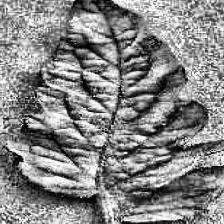leaf mold: (3, 0, 224, 219)
